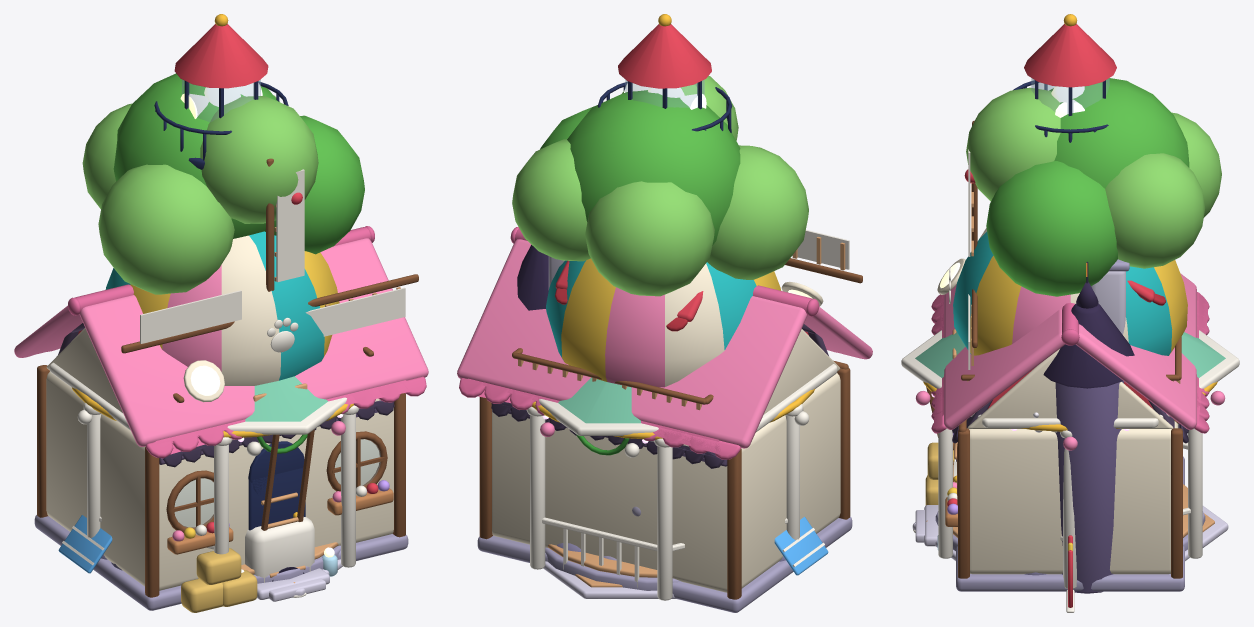
Rendered from home.glb.
The picture shows the model from 3 angles, left to right: view 1: azimuth 30°, elevation 25°; view 2: azimuth 150°, elevation 25°; view 3: azimuth 270°, elevation 25°; orthographic projection. The views are drawn at different scales.
Visible parts, largest first — view 1: Home_cottage_body, Home_treehouse_body, Home_balloon_envelope, Home_gazebo_body, Home_windmill_sails, Home_lighthouse_body, Home_barn_body, Home_igloo_body, Home_agility_body, Home_carousel_body, Home_lighthouse_beam, Home_carousel_ride; view 2: Home_cottage_body, Home_treehouse_body, Home_balloon_envelope, Home_gazebo_body, Home_lighthouse_body, Home_windmill_sails, Home_barn_body, Home_carousel_ride, Home_hauntedhouse_body, Home_agility_body, Home_carousel_body, Home_lighthouse_beam; view 3: Home_cottage_body, Home_treehouse_body, Home_hauntedhouse_body, Home_balloon_envelope, Home_gazebo_body, Home_lighthouse_body, Home_barn_body, Home_windmill_sails, Home_carousel_ride, Home_lighthouse_beam, Home_carousel_body, Home_agility_body.
Boxes of the visible parts, x1,y1,x2,y2 form: Home_cottage_body: (14, 226, 428, 610); Home_treehouse_body: (82, 73, 373, 577); Home_balloon_envelope: (105, 231, 339, 385); Home_gazebo_body: (49, 362, 359, 595); Home_windmill_sails: (121, 158, 418, 353); Home_lighthouse_body: (154, 14, 288, 169); Home_barn_body: (58, 323, 394, 612); Home_igloo_body: (241, 517, 337, 582); Home_agility_body: (58, 515, 112, 573); Home_carousel_body: (253, 545, 340, 601); Home_lighthouse_beam: (180, 83, 262, 118); Home_carousel_ride: (72, 387, 353, 574); Home_cottage_body: (457, 227, 872, 612); Home_treehouse_body: (512, 76, 808, 410); Home_balloon_envelope: (546, 258, 781, 387); Home_gazebo_body: (526, 364, 837, 600); Home_lighthouse_body: (597, 14, 732, 132); Home_windmill_sails: (785, 230, 862, 283); Home_barn_body: (491, 324, 828, 468); Home_carousel_ride: (532, 389, 814, 577); Home_hauntedhouse_body: (517, 245, 548, 310); Home_agility_body: (774, 516, 828, 575); Home_carousel_body: (545, 547, 681, 590); Home_lighthouse_beam: (624, 83, 706, 109); Home_cottage_body: (924, 258, 1209, 591); Home_treehouse_body: (926, 78, 1221, 481); Home_hauntedhouse_body: (1043, 261, 1134, 593); Home_balloon_envelope: (949, 228, 1187, 355); Home_gazebo_body: (901, 330, 1239, 588); Home_lighthouse_body: (1013, 14, 1116, 142); Home_barn_body: (925, 366, 1188, 505); Home_windmill_sails: (968, 120, 977, 369); Home_carousel_ride: (923, 381, 1217, 537); Home_lighthouse_beam: (1051, 86, 1084, 117); Home_carousel_body: (915, 510, 1205, 550); Home_agility_body: (1066, 535, 1074, 612).
Size of the model in its own units: 5.48 by 8.7 by 5.02.
